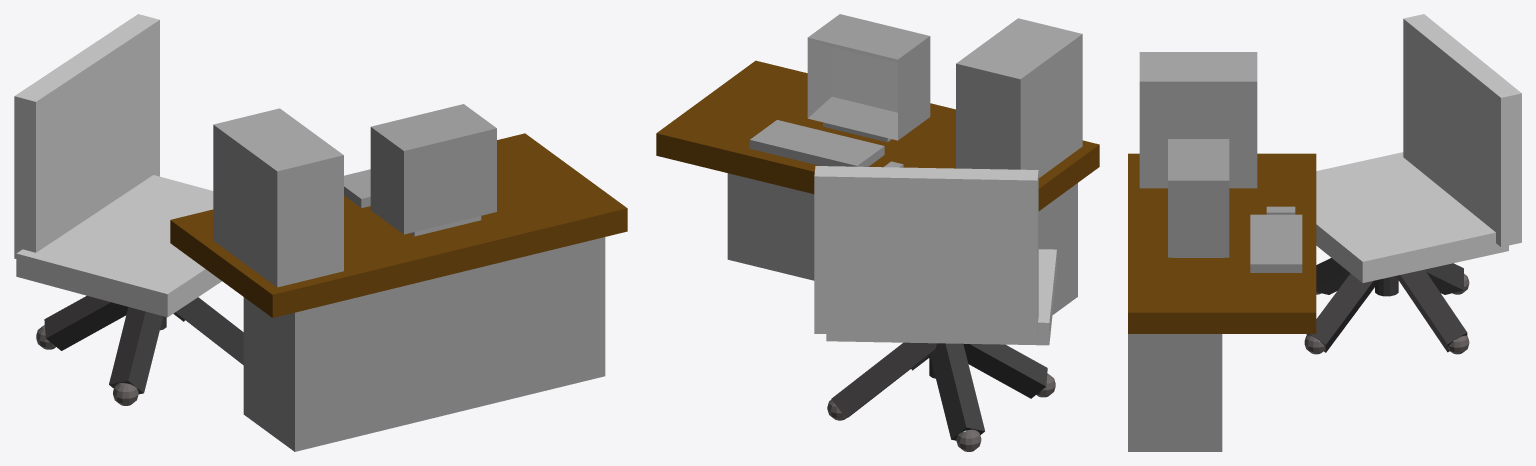
The model's file is computerdesk.gltf.
3 renders of one model, left to right at view 1: azimuth 30°, elevation 25°; view 2: azimuth 150°, elevation 25°; view 3: azimuth 270°, elevation 25°, orthographic. The views are drawn at different scales.
Parts seen in each view (by area): view 1: cuboid-col (×10); view 2: cuboid-col (×10), sphere-col; view 3: cuboid-col (×11), cylinder-col.
Boxes of the visible parts, box(x1,y1,x2,y2) form: cuboid-col (×10): box(14, 14, 627, 451); cuboid-col (×10): box(656, 14, 1099, 440); sphere-col: box(956, 429, 981, 451); cuboid-col (×11): box(1128, 14, 1521, 451); cylinder-col: box(1375, 276, 1398, 296).
Size of the model in its own units: 1.29 by 0.7848 by 1.05.
Materials: 11 (10 with a texture image).
